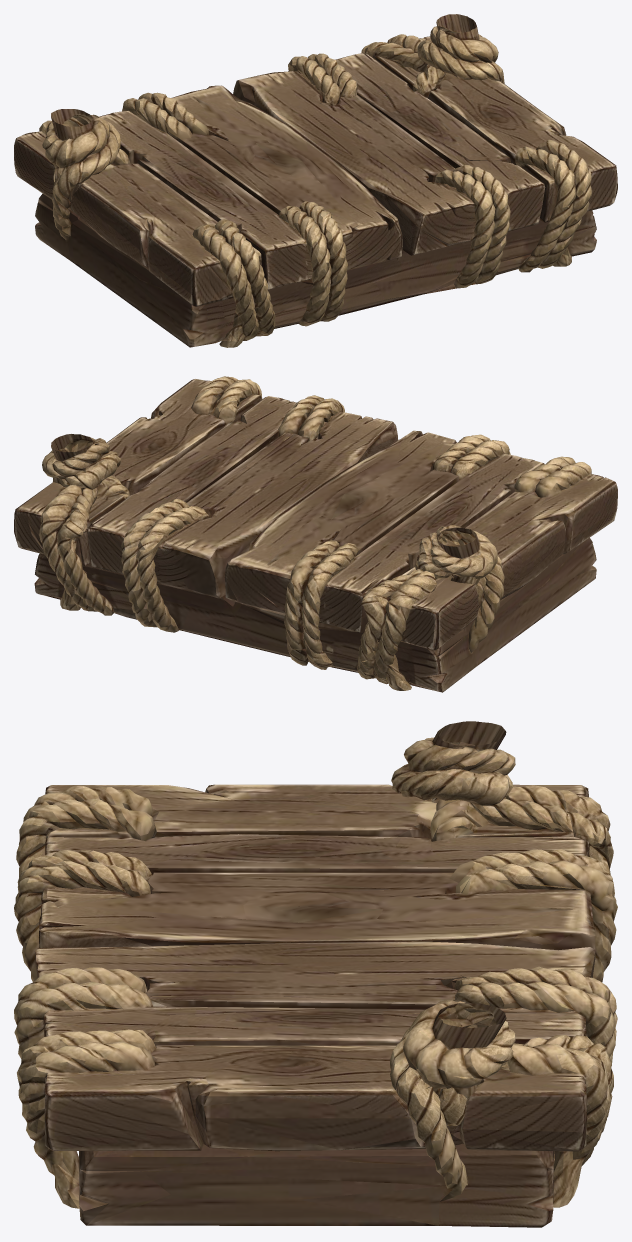
File: WoodPlatformSmall.fbx
3 views of the same model, one above another, from view 1: azimuth 30°, elevation 25°; view 2: azimuth 150°, elevation 25°; view 3: azimuth 270°, elevation 25° (orthographic). The views are drawn at different scales.
Parts seen in each view (by area): view 1: WoodPlatformSmall; view 2: WoodPlatformSmall; view 3: WoodPlatformSmall.
Boxes of the visible parts, x1,y1,x2,y2 form: WoodPlatformSmall: (14,14,617,347); WoodPlatformSmall: (14,376,617,692); WoodPlatformSmall: (14,721,617,1227).
Bounding box in the file's own units: 2 × 0.581 × 1.55.
1 material, 1 textured.
